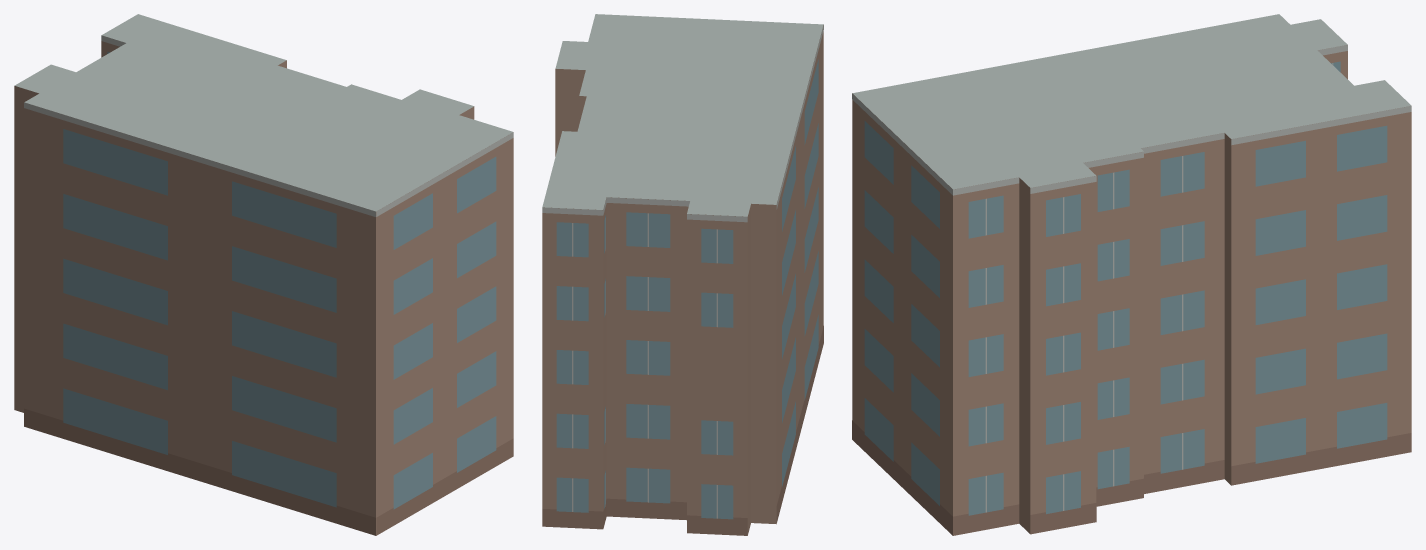
File: survey-upis-32927172.glb
The picture shows the model from 3 angles, left to right: view 1: azimuth 30°, elevation 25°; view 2: azimuth 150°, elevation 25°; view 3: azimuth 270°, elevation 25°; orthographic projection. The views are drawn at different scales.
Parts seen in each view (by area): view 1: survey-upis-32927172.tmp; view 2: survey-upis-32927172.tmp; view 3: survey-upis-32927172.tmp.
Boxes of the visible parts, left/top/right/bottom form: survey-upis-32927172.tmp: left=14, top=14, right=513, bottom=535; survey-upis-32927172.tmp: left=542, top=14, right=823, bottom=535; survey-upis-32927172.tmp: left=852, top=14, right=1411, bottom=535.
Bounding box in the file's own units: 15 × 13.8 × 20.21.
